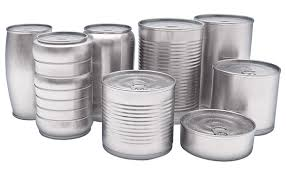can: (4, 12, 281, 163)
